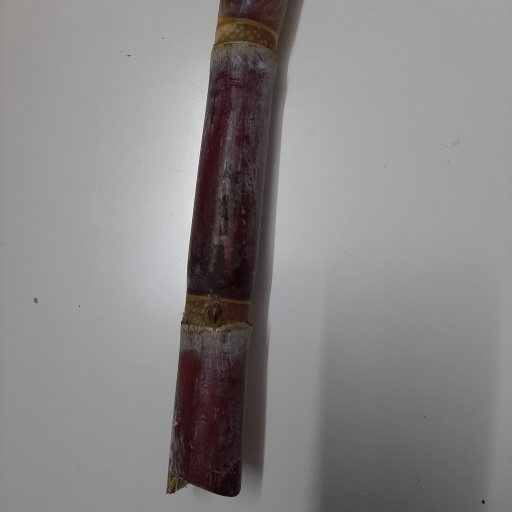Bud: (204, 303, 221, 326)
